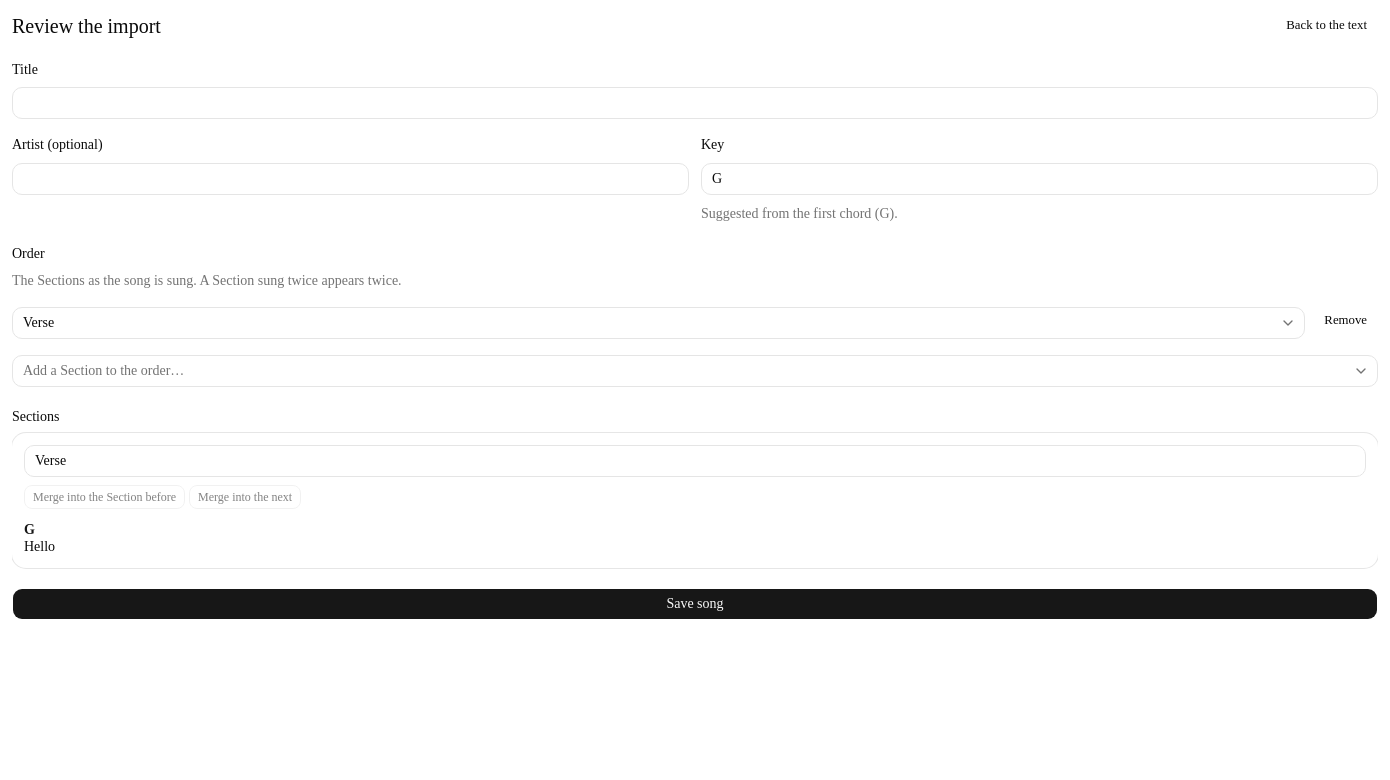
reviewing an import › tells the Member about other Songs with the same title instead of moving on
The width and height of the screenshot is (1390, 780).
Click the field labelled "Title" at point(695, 103), box left=12, top=87, right=1378, bottom=119
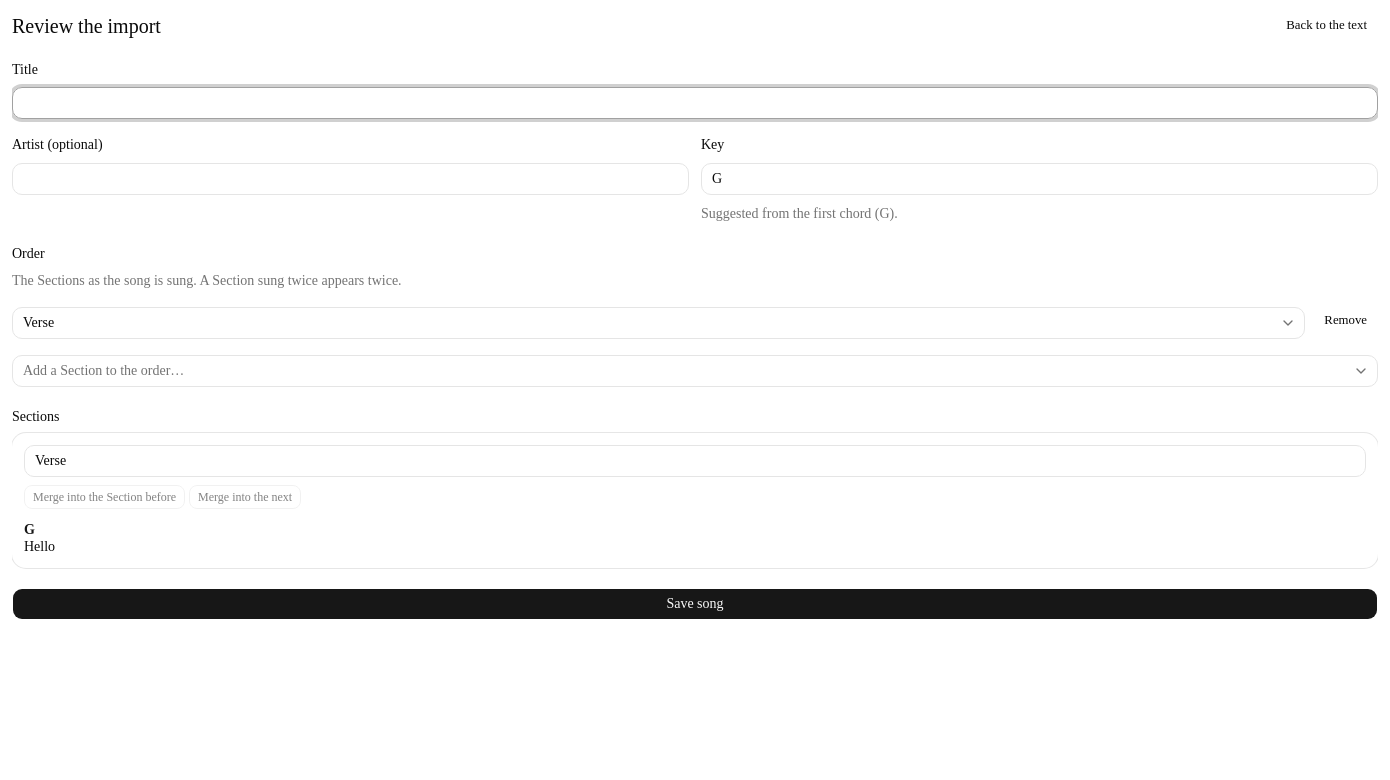
Type keys "Amazing Grace"
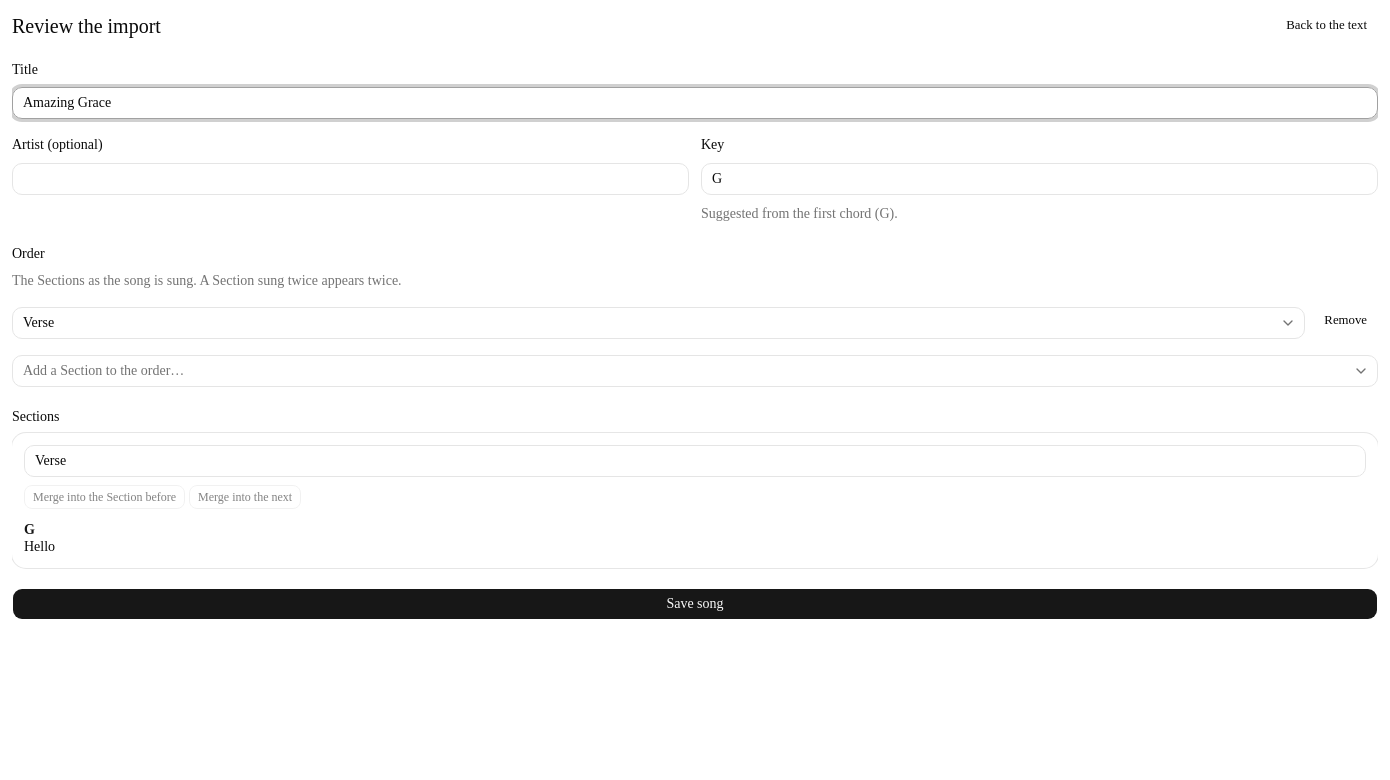
Click the button "Save song" at point(695, 604), box left=12, top=588, right=1378, bottom=620
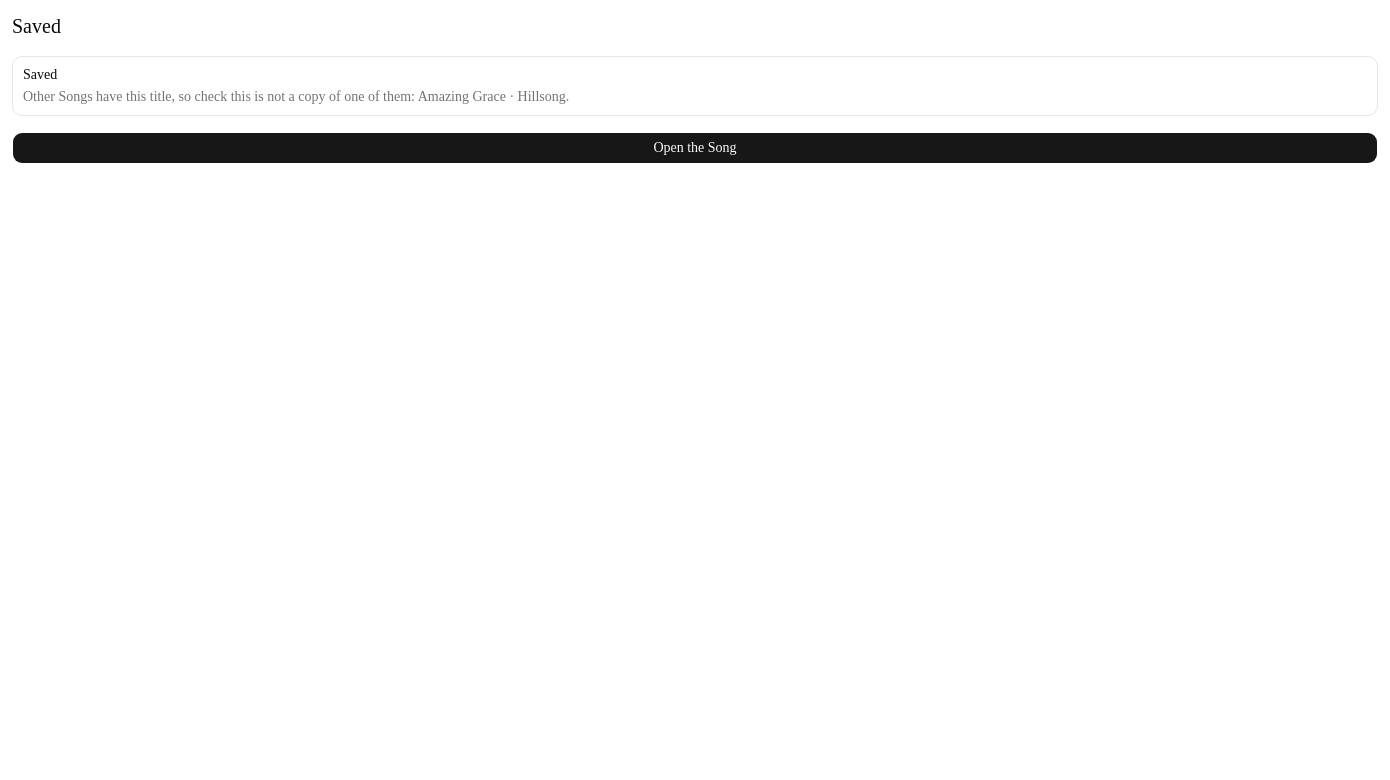
Expected: the text "Other Songs have this title" shows "Amazing Grace · Hillsong", left=418, top=89, right=566, bottom=104
